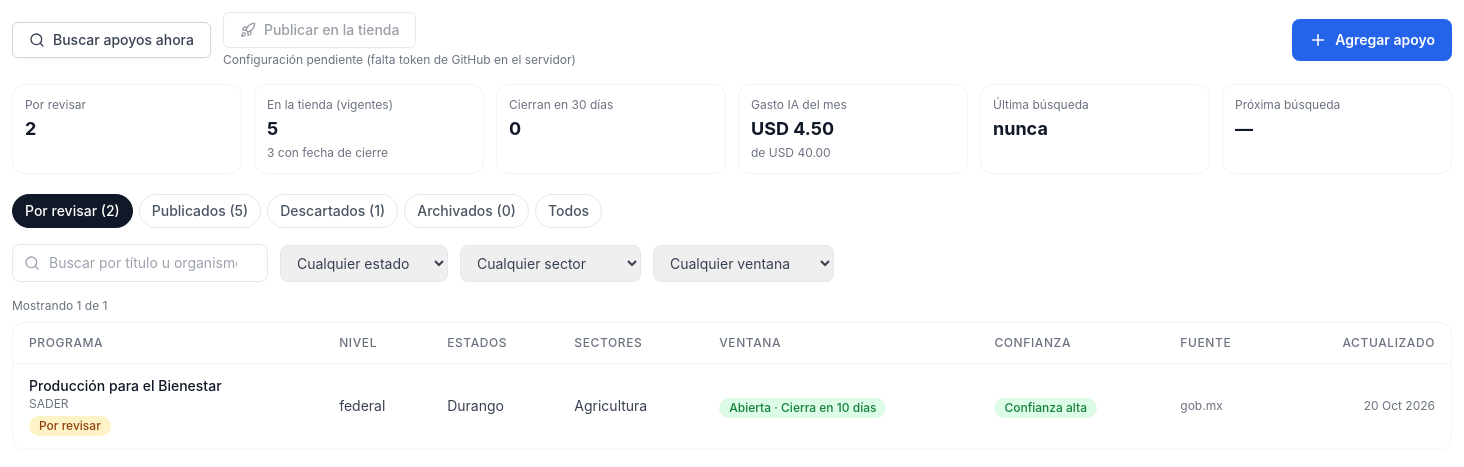
it: «Buscar apoyos ahora» starts a run and shows progress
The image size is (1464, 467).
Click the button "Buscar apoyos ahora". click: (111, 40)
box: [12, 22, 211, 58]
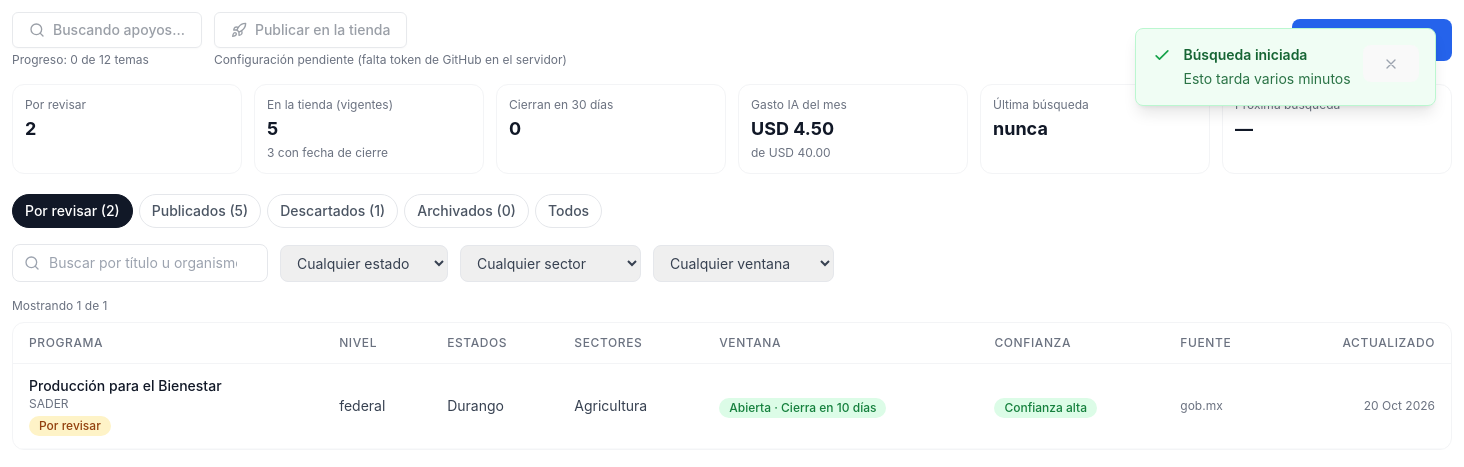
Check: the text "Progreso: 0 de 12 temas" is shown, box [12, 52, 149, 68]
